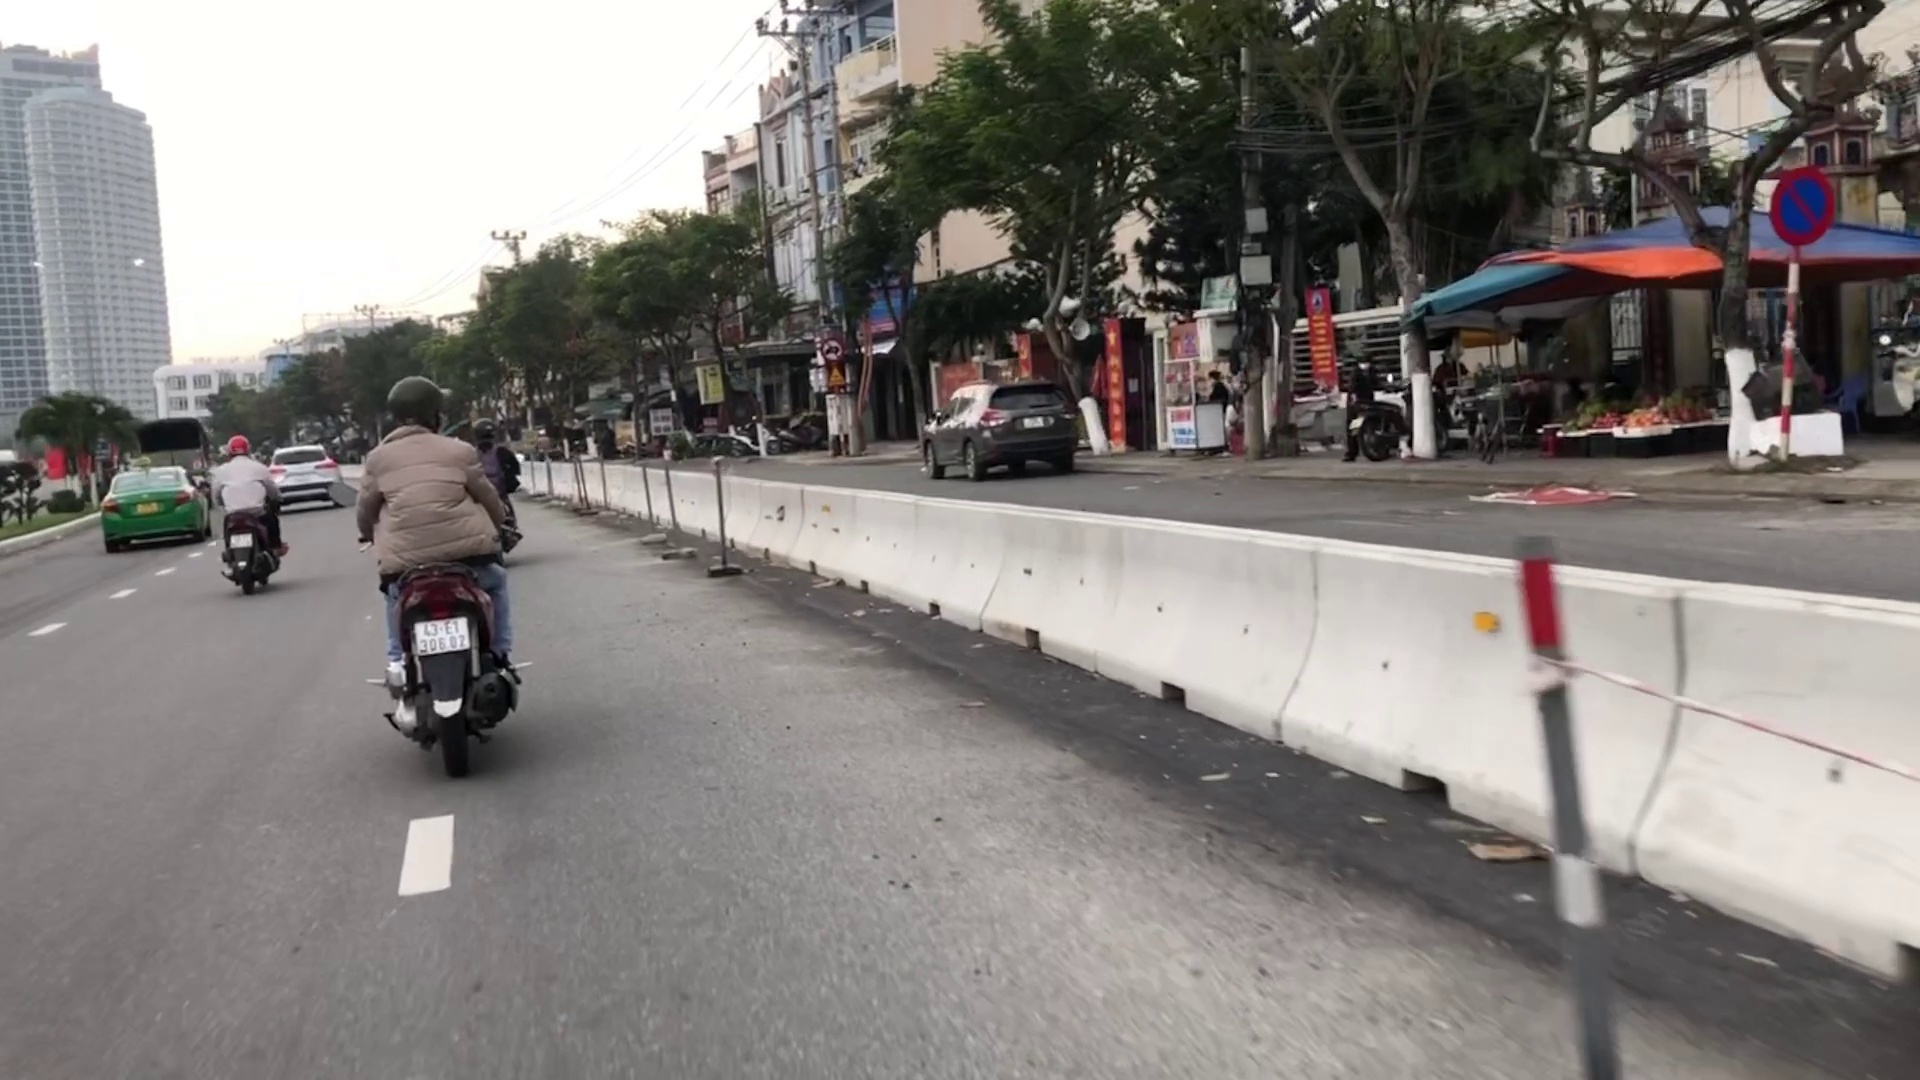Cam do xe: (1764, 162, 1838, 252)
